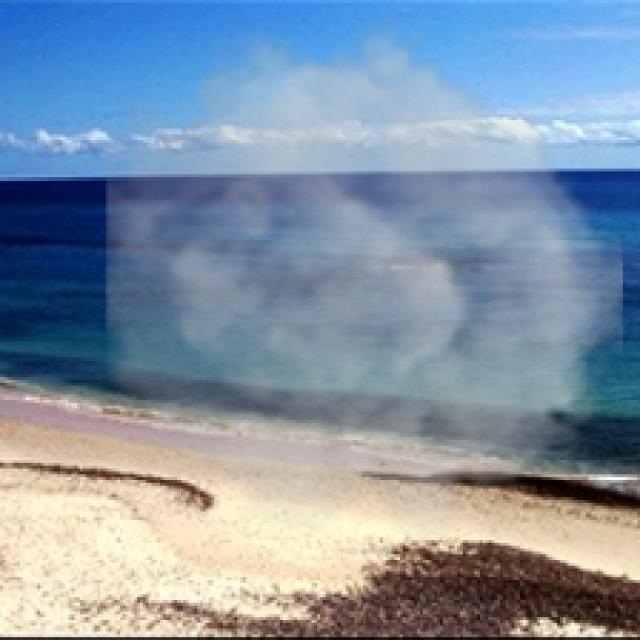smoke: (106, 11, 623, 546)
